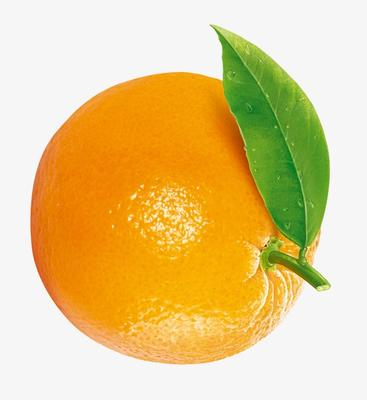orange: (0, 0, 367, 400)
